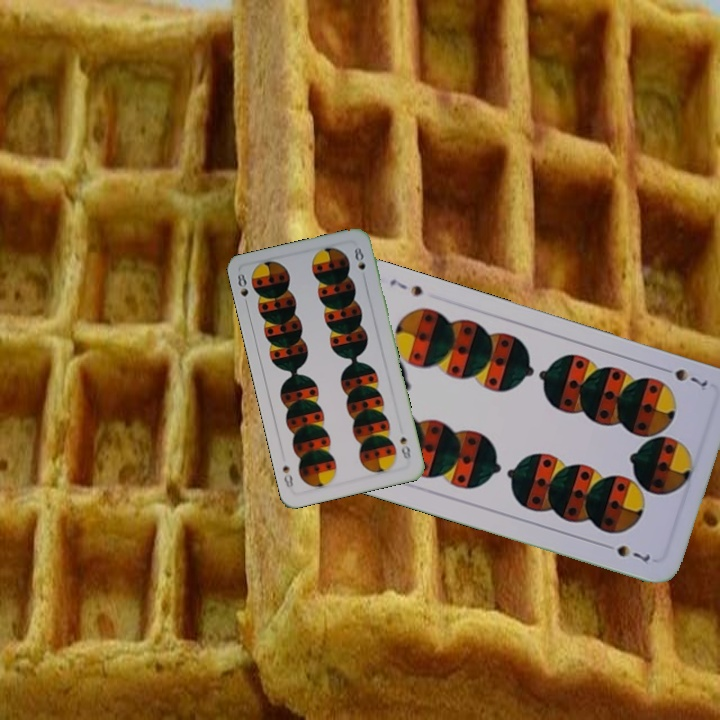S7: (656, 362, 710, 391)
S8: (233, 270, 251, 310), (396, 433, 413, 461)
